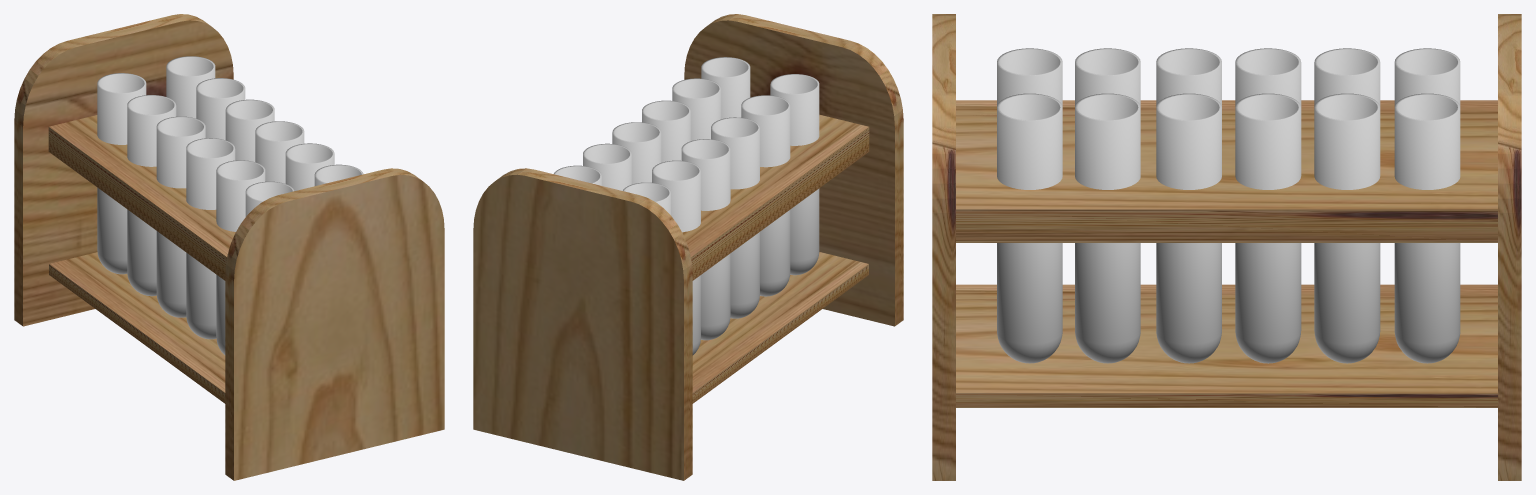
The model's file is wadah.fbx.
The picture shows the model from 3 angles, left to right: view 1: azimuth 30°, elevation 25°; view 2: azimuth 150°, elevation 25°; view 3: azimuth 270°, elevation 25°; orthographic projection. The views are drawn at different scales.
Parts seen in each view (by area): view 1: Cube.001, Cylinder.005, Cylinder.011, Cylinder.007, Cylinder.009, Cylinder.003, Cylinder.006, Cylinder.012, Cylinder.008, Cylinder.010, Cylinder.004, Cylinder.001 (+1 smaller); view 2: Cube.001, Cylinder.003, Cylinder.007, Cylinder.005, Cylinder.001, Cylinder.009, Cylinder.004, Cylinder.002, Cylinder.008, Cylinder.006, Cylinder.010, Cylinder.011 (+1 smaller); view 3: Cube.001, Cylinder.008, Cylinder.010, Cylinder.012, Cylinder.004, Cylinder.002, Cylinder.006, Cylinder.007, Cylinder.009, Cylinder.011, Cylinder.003, Cylinder.001 (+1 smaller).
Part boxes in pixels (left/top/right/bottom): Cube.001: left=14, top=14, right=444, bottom=480; Cylinder.005: left=186, top=138, right=235, bottom=339; Cylinder.011: left=97, top=73, right=146, bottom=274; Cylinder.007: left=156, top=116, right=205, bottom=317; Cylinder.009: left=127, top=95, right=176, bottom=296; Cylinder.003: left=216, top=160, right=265, bottom=355; Cylinder.006: left=255, top=121, right=304, bottom=183; Cylinder.012: left=166, top=56, right=215, bottom=118; Cylinder.008: left=225, top=99, right=274, bottom=161; Cylinder.010: left=196, top=78, right=245, bottom=139; Cylinder.004: left=285, top=143, right=334, bottom=190; Cylinder.001: left=245, top=181, right=294, bottom=216; Cube.001: left=473, top=14, right=903, bottom=480; Cylinder.003: left=741, top=95, right=790, bottom=296; Cylinder.007: left=681, top=139, right=730, bottom=340; Cylinder.005: left=711, top=117, right=759, bottom=318; Cylinder.001: left=770, top=74, right=819, bottom=275; Cylinder.009: left=652, top=160, right=700, bottom=355; Cylinder.004: left=672, top=78, right=721, bottom=140; Cylinder.002: left=701, top=57, right=750, bottom=119; Cylinder.008: left=612, top=122, right=661, bottom=184; Cylinder.006: left=642, top=100, right=690, bottom=162; Cylinder.010: left=583, top=143, right=631, bottom=190; Cylinder.011: left=623, top=182, right=671, bottom=215; Cube.001: left=932, top=14, right=1521, bottom=480; Cylinder.008: left=1235, top=93, right=1301, bottom=363; Cylinder.010: left=1314, top=93, right=1380, bottom=363; Cylinder.012: left=1394, top=93, right=1460, bottom=363; Cylinder.004: left=1075, top=93, right=1140, bottom=363; Cylinder.002: left=997, top=93, right=1062, bottom=363; Cylinder.006: left=1156, top=93, right=1221, bottom=363; Cylinder.007: left=1235, top=48, right=1301, bottom=106; Cylinder.009: left=1314, top=48, right=1380, bottom=106; Cylinder.011: left=1394, top=48, right=1460, bottom=105; Cylinder.003: left=1075, top=48, right=1140, bottom=105; Cylinder.001: left=997, top=48, right=1062, bottom=105.
Bounding box in the file's own units: 134 × 162 × 242.
